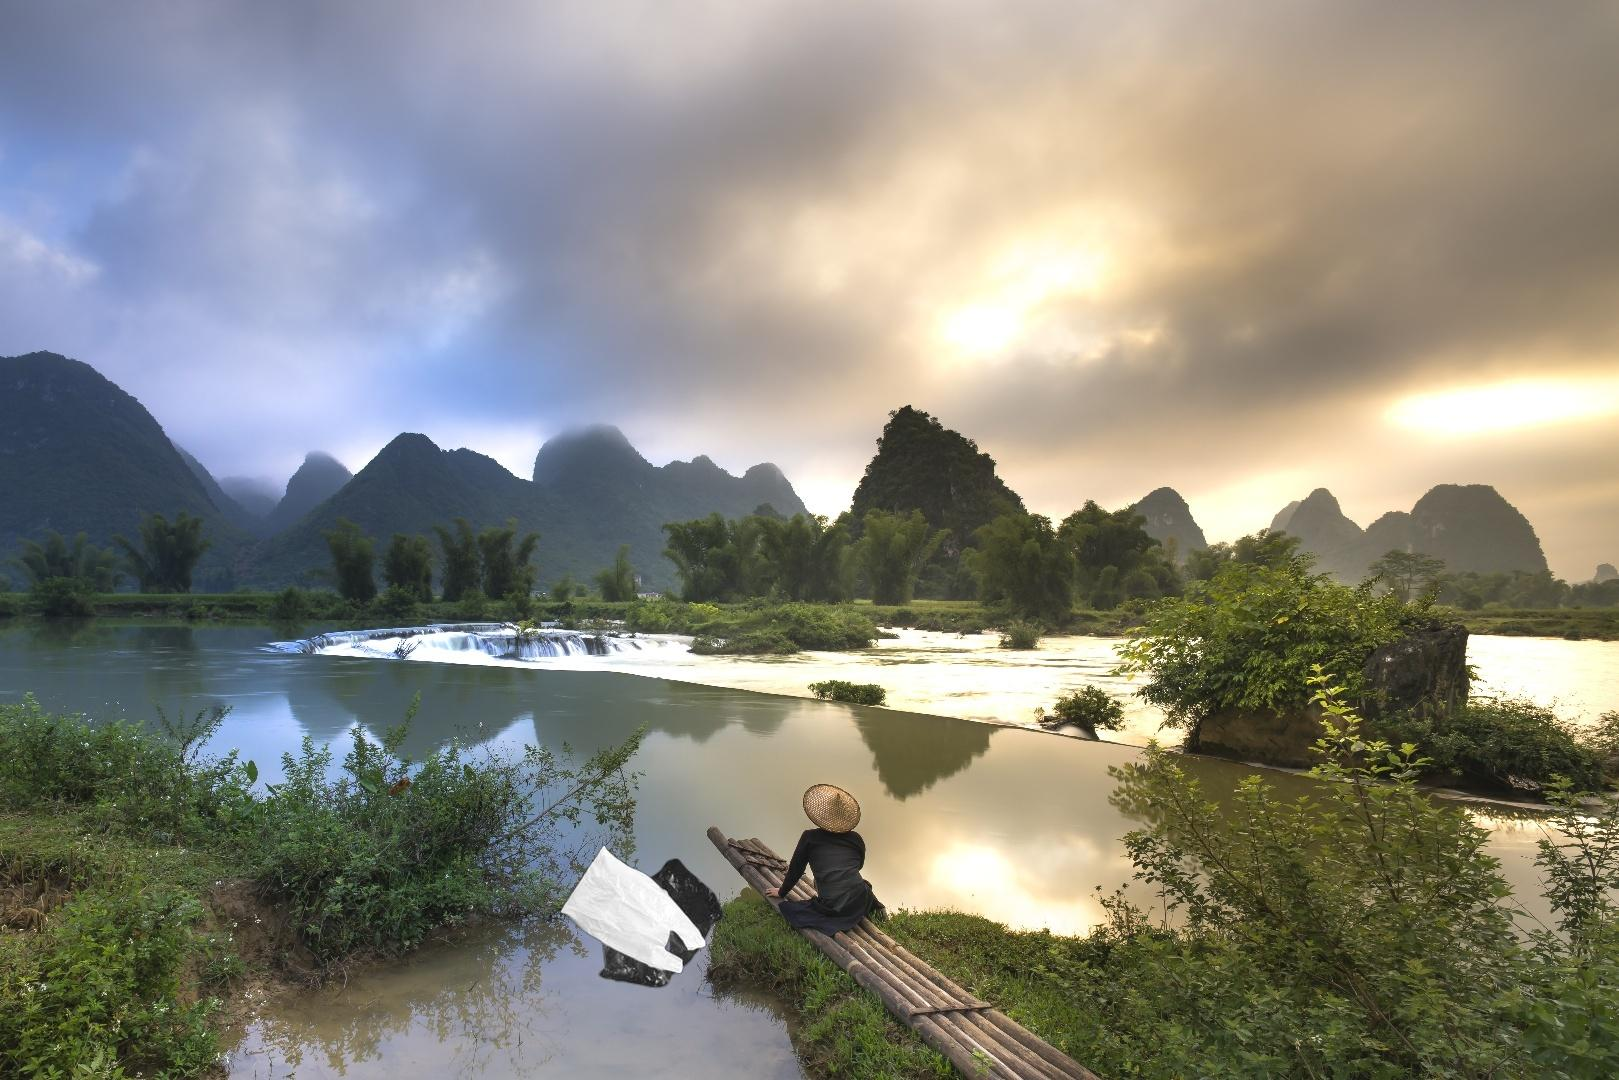plastic-bag: (557, 843, 726, 990)
